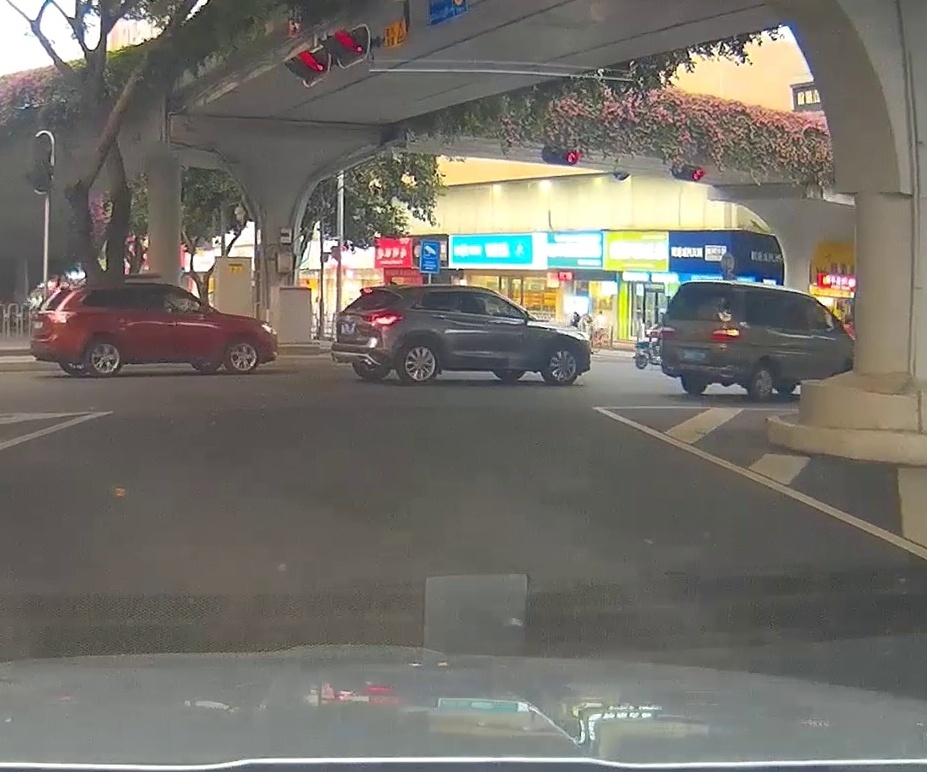L_light: (661, 326, 675, 337)
R_light: (712, 328, 739, 339)
T_light: (701, 283, 715, 288)
day-right: (659, 280, 740, 401)
